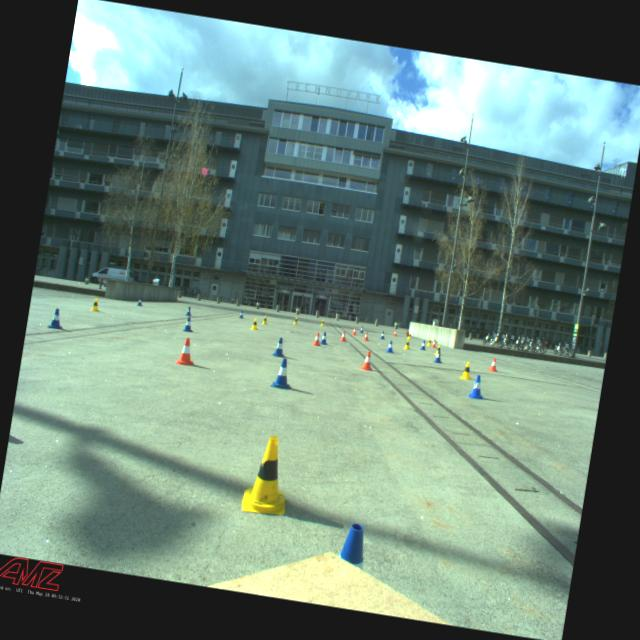blue_cone: (270, 357, 296, 391), (468, 374, 487, 401), (47, 307, 67, 330), (271, 336, 289, 358), (182, 316, 195, 332), (433, 349, 444, 364), (385, 341, 396, 354), (319, 332, 329, 346), (420, 340, 428, 351), (185, 306, 192, 316), (136, 298, 144, 306), (380, 331, 386, 340), (239, 310, 245, 318), (360, 326, 364, 334)
orange_cone: (176, 337, 198, 367), (359, 351, 376, 371), (488, 358, 499, 372), (312, 332, 322, 346), (339, 331, 348, 342), (363, 332, 370, 342), (352, 326, 358, 336), (431, 339, 437, 348), (393, 330, 398, 337)
yellow_cone: (240, 432, 296, 517), (459, 360, 474, 380), (90, 298, 102, 312), (250, 318, 260, 330), (434, 344, 444, 356), (403, 339, 412, 350), (262, 316, 268, 326), (427, 338, 433, 347), (293, 317, 299, 325), (320, 319, 325, 327), (407, 332, 412, 339)
